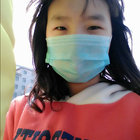face_mask: (45, 0, 110, 78)
